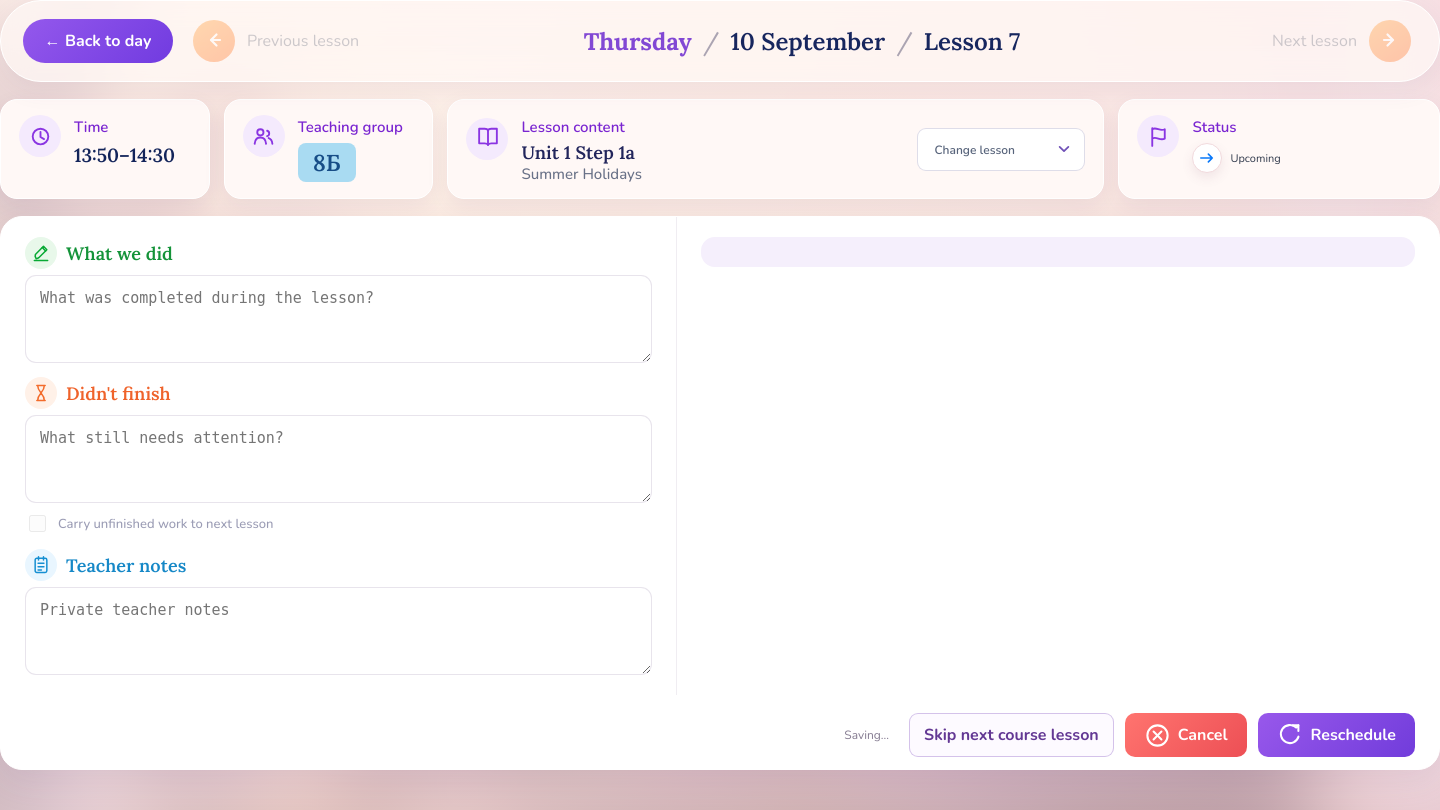
Test: Lesson Details course adjustment UI › places a secondary action in the footer and previews the exact three Course Map items
Step 1. Click the button "Skip next course lesson" → (1011, 735), box [909,713,1114,757]
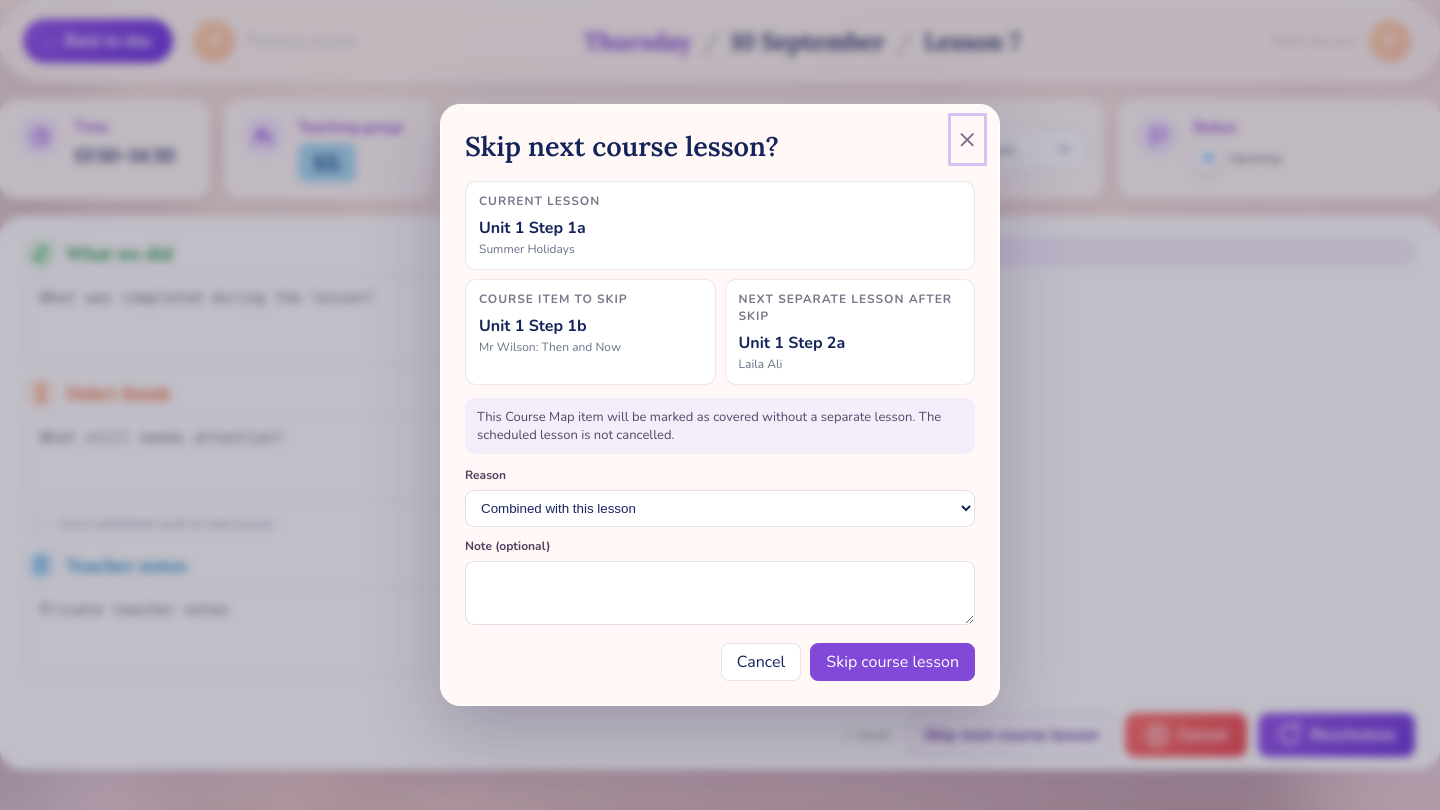
Result: the dialog shows "Skip next course lesson?" at [465,129,779,163]
Result: the dialog shows "Unit 1 Step 1a" at [479,217,586,239]
Result: the dialog shows "Unit 1 Step 1b" at [479,315,587,337]
